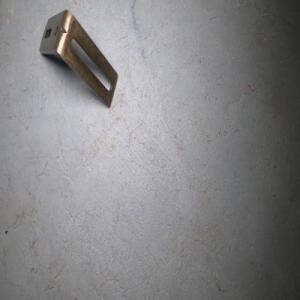MetalPart: (38, 7, 119, 109)
